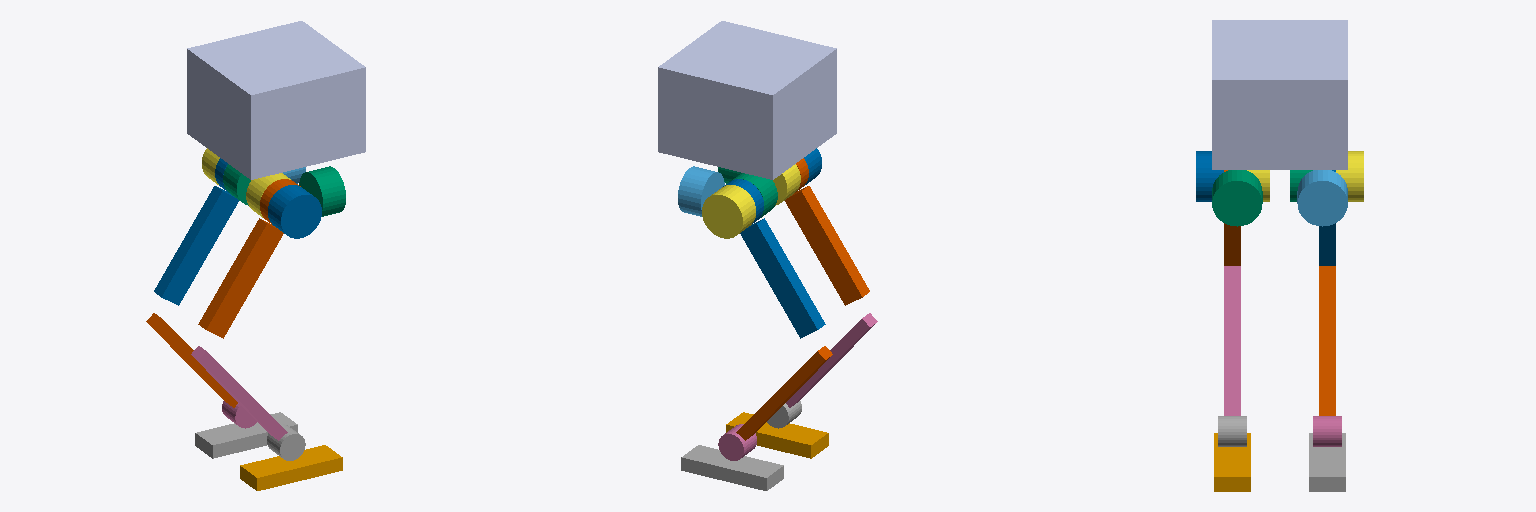
robot.urdf — SF_TRON1:
<?xml version="1.0" encoding="utf-8"?>
<robot name="SF_TRON1">

  <material name="black">
    <color rgba="0.0 0.0 0.0 1.0" />
  </material>
  <material name="blue">
    <color rgba="0.0 0.0 0.8 1.0" />
  </material>
  <material name="green">
    <color rgba="0.0 0.8 0.0 1.0" />
  </material>
  <material name="grey">
    <color rgba="0.2 0.2 0.2 1.0" />
  </material>
  <material name="silver">
    <color rgba="0.913725490196 0.913725490196 0.847058823529 1.0" />
  </material>
  <material name="orange">
    <color rgba="1.0 0.423529411765 0.0392156862745 1.0" />
  </material>
  <material name="brown">
    <color rgba="0.870588235294 0.811764705882 0.764705882353 1.0" />
  </material>
  <material name="red">
    <color rgba="0.8 0.0 0.0 1.0" />
  </material>
  <material name="white">
    <color rgba="1.0 1.0 1.0 1.0" />
  </material>

  <!-- ==================== BASE ==================== -->

  <link name="base_Link">
    <visual>
      <origin xyz="0 0 0" rpy="0 0 0" />
      <geometry>
        <box size="0.27 0.26 0.19" />
      </geometry>
      <material name="">
        <color rgba="0.79216 0.81961 0.93333 1" />
      </material>
    </visual>
    <collision>
      <origin xyz="0 0 0" rpy="0 0 0" />
      <geometry>
        <box size="0.27 0.26 0.19" />
      </geometry>
    </collision>
    <inertial>
      <origin rpy="0 0 0" xyz="0 0 0" />
      <mass value="5" />
      <inertia ixx="0.043208" ixy="0" ixz="0" iyy="0.045417" iyz="0" izz="0.058542" />
    </inertial>
  </link>

  <!-- ==================== IMU ==================== -->

  <joint name="limx_imu_joint" type="fixed">
    <origin rpy="0 0 0" xyz="0 0 0" />
    <parent link="base_Link" />
    <child link="limx_imu" />
  </joint>

  <link name="limx_imu">
    <inertial>
      <mass value="0.01" />
      <origin rpy="0 0 0" xyz="0 0 0" />
      <inertia ixx="0.000001" ixy="0" ixz="0" iyy="0.000001" iyz="0" izz="0.000001" />
    </inertial>
    <visual>
      <origin rpy="0 0 0" xyz="0 0 0" />
      <geometry>
        <box size="0.015 0.015 0.004" />
      </geometry>
      <material name="orange" />
    </visual>
  </link>

  <!-- ==================== RIGHT LEG ==================== -->

  <!--
    abad_R_fixed_joint origin is derived so the effective position of the
    revolute abad_R_Joint in base_Link frame matches the original Tron1 URDF:
      xyz = (0.05556, -0.105, -0.2602) = fixed_xyz + (-0.0545, 0, 0)
      => fixed_xyz = (0.11006, -0.10500, -0.26020)
  -->
  <joint name="abad_R_fixed_joint" type="fixed">
    <origin rpy="0 0 0" xyz="0.08865 -0.0817 -0.1875" />
    <parent link="base_Link" />
    <child link="abad_R_actuator_Link" />
  </joint>

  <link name="abad_R_actuator_Link">
    <visual>
      <origin rpy="0 1.57079632679 0" xyz="-0.02725 0 0" />
      <geometry>
        <cylinder length="0.0545" radius="0.0483" />
      </geometry>
    </visual>
    <collision>
      <origin rpy="0 1.57079632679 0" xyz="-0.02725 0 0" />
      <geometry>
        <cylinder length="0.0545" radius="0.0483" />
      </geometry>
    </collision>
    <inertial>
      <origin rpy="0 0 0" xyz="-0.02725 0 0" />
      <mass value="0.95" />
      <inertia ixx="0.001108" ixy="0" ixz="0" iyy="0.000789" iyz="0" izz="0.000789" />
    </inertial>
  </link>

  <!-- Revolute joint at (-0.0545,0,0) relative to actuator; effective position from base_Link = (0.05556,-0.105,-0.2602) -->
  <joint name="abad_R_Joint" type="revolute">
    <origin rpy="0 0 0" xyz="-0.0545 0 0" />
    <parent link="abad_R_actuator_Link" />
    <child link="abad_R_Link" />
    <axis xyz="-1 0 0" />
    <dynamics damping="0" friction="0" />
    <limit effort="80.0" lower="-0.38397" upper="1.39626" velocity="15.0" />
  </joint>

  <link name="abad_R_Link">
    <visual>
      <origin rpy="1.57079632679 0 0" xyz="-0.0683 0.035 0" />
      <geometry>
        <cylinder length="0.0545" radius="0.0483" />
      </geometry>
    </visual>
    <collision>
      <origin rpy="1.57079632679 0 0" xyz="-0.0683 0.035 0" />
      <geometry>
        <cylinder length="0.0545" radius="0.0483" />
      </geometry>
    </collision>
    <inertial>
      <!-- Solid cylinder, axis along Y (rpy="1.57 0 0"), r=0.0483, L=0.0545, m=1.469
           Iyy = m*r^2/2 = 1.469*0.0483^2/2 = 0.001713
           Ixx = Izz = m*(3r^2+L^2)/12 = 1.469*(3*0.002333+0.002970)/12 = 0.001220 -->
      <origin rpy="0 0 0" xyz="-0.0683 0.035 0" />
      <mass value="1.469" />
      <inertia ixx="0.001220" ixy="0" ixz="0"
               iyy="0.001713" iyz="0" izz="0.001220" />
    </inertial>
  </link>

  <joint name="hip_R_Joint" type="revolute">
    <origin rpy="0 0 0" xyz="-0.0683 0.03050 0" />
    <parent link="abad_R_Link" />
    <child link="hip_R_Link" />
    <axis xyz="0 -1 0" />
    <dynamics damping="0" friction="0" />
    <limit effort="80.0" lower="-1.396263" upper="1.012291" velocity="15.0" />
  </joint>

  <link name="hip_R_Link">
    <visual>
      <origin rpy="1.57079632679 0 0" xyz="0 -0.08275 0" />
      <geometry>
        <cylinder length="0.0545" radius="0.0483" />
      </geometry>
    </visual>
    <collision>
      <origin rpy="1.57079632679 0 0" xyz="0 -0.08275 0" />
      <geometry>
        <cylinder length="0.0545" radius="0.0483" />
      </geometry>
    </collision>
    <inertial>
      <origin rpy="0 0 0" xyz="0 -0.08275 0" />
      <mass value="0.95" />
      <inertia ixx="0.000789" ixy="0" ixz="0" iyy="0.001108" iyz="0" izz="0.000789" />
    </inertial>
  </link>

  <joint name="hip_R_fixed_joint" type="fixed">
    <origin rpy="0 0.610865 0" xyz="0 -0.08275 0" />
    <parent link="hip_R_Link" />
    <child link="hip_R_thigh_Link" />
  </joint>

  <link name="hip_R_thigh_Link">
    <visual>
      <origin rpy="1.57079632679 0 0" xyz="0 0.04325 0" />
      <geometry>
        <cylinder length="0.032" radius="0.0483" />
      </geometry>
    </visual>
    <visual>
      <origin rpy="0 0 0" xyz="0 0.04325 -0.175" />
      <geometry>
        <box size="0.05 0.032 0.25" />
      </geometry>
    </visual>
    <collision>
      <origin rpy="1.57079632679 0 0" xyz="0 0.04325 0" />
      <geometry>
        <cylinder length="0.032" radius="0.0483" />
      </geometry>
    </collision>
    <collision>
      <origin rpy="0 0 0" xyz="0 0.04325 -0.175" />
      <geometry>
        <box size="0.05 0.032 0.25" />
      </geometry>
    </collision>
    <inertial>
      <origin rpy="0 0 0" xyz="0 0.04325 -0.175" />
      <mass value="1.5" />
      <inertia ixx="0.011378" ixy="0" ixz="0" iyy="0.011562" iyz="0" izz="0.000441" />
    </inertial>
  </link>

  <!--
    knee_R_Joint origin relative to hip_R_thigh_Link is derived so the effective
    position from hip_R_Link matches the original Tron1 URDF xyz=(-0.1500,0.02050,-0.25981):
      hip_R_fixed_joint: (0,-0.08275,0) + knee_R_Joint: (-0.15000,0.10325,-0.25981) = (-0.15000,0.02050,-0.25981)
  -->
  <joint name="knee_R_Joint" type="revolute">
    <origin rpy="0 -1.3090 0" xyz="0 0.04325 -0.35" />
    <parent link="hip_R_thigh_Link" />
    <child link="knee_R_Link" />
    <axis xyz="0 -1 0" />
    <dynamics damping="0" friction="0" />
    <limit effort="80" lower="-1.21357" upper="1.172665" velocity="15" />
  </joint>

  <link name="knee_R_Link">
    <visual>
      <origin rpy="0 0 0" xyz="0 0 -0.15" />
      <geometry>
        <box size="0.025 0.032 0.3" />
      </geometry>
    </visual>
    <collision>
      <origin rpy="0 0 0" xyz="0 0 -0.15" />
      <geometry>
        <box size="0.025 0.032 0.3" />
      </geometry>
    </collision>
    <inertial>
      <!-- Box 0.025(x)*0.032(y)*0.3(z), m=1.22, CoM at box center
           Ixx = m*(b^2+c^2)/12 = 1.22*(0.001024+0.09)/12 = 0.009254
           Iyy = m*(a^2+c^2)/12 = 1.22*(0.000625+0.09)/12 = 0.009214
           Izz = m*(a^2+b^2)/12 = 1.22*(0.000625+0.001024)/12 = 0.000168 -->
      <origin rpy="0 0 0" xyz="0 0 -0.15" />
      <mass value="1.22" />
      <inertia ixx="0.009254" ixy="0" ixz="0"
               iyy="0.009214" iyz="0" izz="0.000168" />
    </inertial>
  </link>

  <joint name="ankle_R_actuator_Joint" type="fixed">
    <origin rpy="0 0.6982 0" xyz="0.018 0 -0.34" />
    <parent link="knee_R_Link" />
    <child link="ankle_R_actuator_Link" />
  </joint>

  <link name="ankle_R_actuator_Link">
    <visual>
      <origin rpy="1.57079632679 0 0" xyz="-0.02725 0 0" />
      <geometry>
        <cylinder length="0.0545" radius="0.03" />
      </geometry>
    </visual>
    <collision>
      <origin rpy="1.57079632679 0 0" xyz="-0.02725 0 0" />
      <geometry>
        <cylinder length="0.0545" radius="0.03" />
      </geometry>
    </collision>
    <inertial>
      <!-- Solid cylinder, axis along X (collision rpy="0 1.57 0"), r=0.03, L=0.0545, m=0.95
           Ixx = m*r^2/2 = 0.95*0.0009/2 = 0.000428
           Iyy = Izz = m*(3r^2+L^2)/12 = 0.95*(0.0027+0.002970)/12 = 0.000449 -->
      <origin rpy="0 0 0" xyz="-0.02725 0 0" />
      <mass value="0.95" />
      <inertia ixx="0.000428" ixy="0" ixz="0" iyy="0.000449" iyz="0" izz="0.000449" />
    </inertial>
  </link>

  <joint name="ankle_R_Joint" type="revolute">
    <origin rpy="0 0 0" xyz="-0.025 0 -0.025" />
    <parent link="ankle_R_actuator_Link" />
    <child link="ankle_R_Link" />
    <axis xyz="0 -1 0" />
    <dynamics damping="0" friction="0.01" />
    <limit effort="20" lower="-0.79191730631626" upper="1.30899" velocity="15" />
  </joint>

  <link name="ankle_R_Link">
    <visual>
      <origin xyz="0.01 0 -0.035" rpy="0 0 0" />
      <geometry>
        <box size="0.2 0.07 0.03" />
      </geometry>
    </visual>
    <collision>
      <origin xyz="0.01 0 -0.035" rpy="0 0 0" />
      <geometry>
        <box size="0.2 0.07 0.03" />
      </geometry>
    </collision>
    <inertial>
      <!-- Box 0.2(x)*0.07(y)*0.03(z), m=0.62, CoM at box center
           Ixx = m*(b^2+c^2)/12 = 0.62*(0.0049+0.0009)/12 = 0.000300
           Iyy = m*(a^2+c^2)/12 = 0.62*(0.04+0.0009)/12 = 0.002113
           Izz = m*(a^2+b^2)/12 = 0.62*(0.04+0.0049)/12 = 0.002320 -->
      <origin rpy="0 0 0" xyz="0.01 0 -0.035" />
      <mass value="0.62" />
      <inertia ixx="0.000300" ixy="0" ixz="0"
               iyy="0.002113" iyz="0" izz="0.002320" />
    </inertial>
  </link>

  <!-- ==================== LEFT LEG ==================== -->

  <!--
    abad_L_fixed_joint origin is derived so the effective position of the
    revolute abad_L_Joint in base_Link frame matches the original Tron1 URDF:
      xyz = (0.05556, 0.105, -0.2602) = fixed_xyz + (-0.0545, 0, 0)
      => fixed_xyz = (0.11006, 0.10500, -0.26020)
  -->
  <joint name="abad_L_fixed_joint" type="fixed">
    <origin rpy="0 0 0" xyz="0.08865 0.0817 -0.1875" />
    <parent link="base_Link" />
    <child link="abad_L_actuator_Link" />
  </joint>

  <link name="abad_L_actuator_Link">
    <visual>
      <origin rpy="0 1.57079632679 0" xyz="-0.02725 0 0" />
      <geometry>
        <cylinder length="0.0545" radius="0.0483" />
      </geometry>
    </visual>
    <collision>
      <origin rpy="0 1.57079632679 0" xyz="-0.02725 0 0" />
      <geometry>
        <cylinder length="0.0545" radius="0.0483" />
      </geometry>
    </collision>
    <inertial>
      <origin rpy="0 0 0" xyz="-0.02725 0 0" />
      <mass value="0.95" />
      <inertia ixx="0.001108" ixy="0" ixz="0" iyy="0.000789" iyz="0" izz="0.000789" />
    </inertial>
  </link>

  <!-- Revolute joint at (-0.0545,0,0) relative to actuator; effective position from base_Link = (0.05556,0.105,-0.2602) -->
  <joint name="abad_L_Joint" type="revolute">
    <origin rpy="0 0 0" xyz="-0.0545 0 0" />
    <parent link="abad_L_actuator_Link" />
    <child link="abad_L_Link" />
    <axis xyz="1 0 0" />
    <dynamics damping="0" friction="0" />
    <limit effort="80.0" lower="-0.38397" upper="1.39626" velocity="15.0" />
  </joint>

  <link name="abad_L_Link">
    <visual>
      <origin rpy="1.57079632679 0 0" xyz="-0.0683 -0.035 0" />
      <geometry>
        <cylinder length="0.0545" radius="0.0483" />
      </geometry>
    </visual>
    <collision>
      <origin rpy="1.57079632679 0 0" xyz="-0.0683 -0.035 0" />
      <geometry>
        <cylinder length="0.0545" radius="0.0483" />
      </geometry>
    </collision>
    <inertial>
      <!-- Solid cylinder, axis along Y (rpy="1.57 0 0"), r=0.0483, L=0.0545, m=1.469
           Iyy = m*r^2/2 = 1.469*0.0483^2/2 = 0.001713
           Ixx = Izz = m*(3r^2+L^2)/12 = 1.469*(3*0.002333+0.002970)/12 = 0.001220 -->
      <origin rpy="0 0 0" xyz="-0.0683 -0.035 0" />
      <mass value="1.469" />
      <inertia ixx="0.001220" ixy="0" ixz="0"
               iyy="0.001713" iyz="0" izz="0.001220" />
    </inertial>
  </link>

  <joint name="hip_L_Joint" type="revolute">
    <origin rpy="0 0 0" xyz="-0.0683 -0.03050 0" />
    <parent link="abad_L_Link" />
    <child link="hip_L_Link" />
    <axis xyz="0 1 0" />
    <dynamics damping="0" friction="0" />
    <limit effort="80.0" lower="-1.012291" upper="1.396263" velocity="15.0" />
  </joint>

  <link name="hip_L_Link">
    <visual>
      <origin rpy="1.57079632679 0 0" xyz="0 0.08275 0" />
      <geometry>
        <cylinder length="0.0545" radius="0.0483" />
      </geometry>
    </visual>
    <collision>
      <origin rpy="1.57079632679 0 0" xyz="0 0.08275 0" />
      <geometry>
        <cylinder length="0.0545" radius="0.0483" />
      </geometry>
    </collision>
    <inertial>
      <origin rpy="0 0 0" xyz="0 0.08275 0" />
      <mass value="0.95" />
      <inertia ixx="0.000789" ixy="0" ixz="0" iyy="0.001108" iyz="0" izz="0.000789" />
    </inertial>
  </link>

  <joint name="hip_L_fixed_joint" type="fixed">
    <origin rpy="0 0.610865 0" xyz="0 0.08275 0" />
    <parent link="hip_L_Link" />
    <child link="hip_L_thigh_Link" />
  </joint>

  <link name="hip_L_thigh_Link">
    <visual>
      <origin rpy="1.57079632679 0 0" xyz="0 -0.04325 0" />
      <geometry>
        <cylinder length="0.032" radius="0.0483" />
      </geometry>
    </visual>
    <visual>
      <origin rpy="0 0 0" xyz="0 -0.04325 -0.175" />
      <geometry>
        <box size="0.05 0.032 0.25" />
      </geometry>
    </visual>
    <collision>
      <origin rpy="1.57079632679 0 0" xyz="0 -0.04325 0" />
      <geometry>
        <cylinder length="0.032" radius="0.0483" />
      </geometry>
    </collision>
    <collision>
      <origin rpy="0 0 0" xyz="0 -0.04325 -0.175" />
      <geometry>
        <box size="0.05 0.032 0.25" />
      </geometry>
    </collision>
    <inertial>
      <origin rpy="0 0 0" xyz="0 -0.04325 -0.175" />
      <mass value="1.5" />
      <inertia ixx="0.011378" ixy="0" ixz="0" iyy="0.011562" iyz="0" izz="0.000441" />
    </inertial>
  </link>

  <!--
    knee_L_Joint origin relative to hip_L_thigh_Link is derived so the effective
    position from hip_L_Link matches the original Tron1 URDF xyz=(-0.1500,-0.02050,-0.25981):
      hip_L_fixed_joint: (0,0.08275,0) + knee_L_Joint: (-0.15000,-0.10325,-0.25981) = (-0.15000,-0.02050,-0.25981)
  -->
  <joint name="knee_L_Joint" type="revolute">
    <origin rpy="0 -1.3090 0" xyz="0 -0.04325 -0.35" />
    <parent link="hip_L_thigh_Link" />
    <child link="knee_L_Link" />
    <axis xyz="0 -1 0" />
    <dynamics damping="0" friction="0" />
    <limit effort="80" lower="-0.872665" upper="1.361357" velocity="15" />
  </joint>

  <link name="knee_L_Link">
    <visual>
      <origin rpy="0 0 0" xyz="0 0 -0.15" />
      <geometry>
        <box size="0.025 0.032 0.3" />
      </geometry>
    </visual>
    <collision>
      <origin rpy="0 0 0" xyz="0 0 -0.15" />
      <geometry>
        <box size="0.025 0.032 0.3" />
      </geometry>
    </collision>
    <inertial>
      <!-- Box 0.025(x)*0.032(y)*0.3(z), m=1.22, CoM at box center
           Ixx = m*(b^2+c^2)/12 = 1.22*(0.001024+0.09)/12 = 0.009254
           Iyy = m*(a^2+c^2)/12 = 1.22*(0.000625+0.09)/12 = 0.009214
           Izz = m*(a^2+b^2)/12 = 1.22*(0.000625+0.001024)/12 = 0.000168 -->
      <origin rpy="0 0 0" xyz="0 0 -0.15" />
      <mass value="1.22" />
      <inertia ixx="0.009254" ixy="0" ixz="0"
               iyy="0.009214" iyz="0" izz="0.000168" />
    </inertial>
  </link>
  
  <joint name="ankle_L_actuator_Joint" type="fixed">
    <origin rpy="0 0.6982 0" xyz="0.018 0 -0.34" />
    <parent link="knee_L_Link" />
    <child link="ankle_L_actuator_Link" />
  </joint>

  
  <link name="ankle_L_actuator_Link">
    <visual>
      <origin rpy="1.57079632679 0 0" xyz="-0.02725 0 0" />
      <geometry>
        <cylinder length="0.0545" radius="0.03" />
      </geometry>
    </visual>
    <collision>
      <origin rpy="0 1.57079632679 0" xyz="-0.02725 0 0" />
      <geometry>
        <cylinder length="0.0545" radius="0.03" />
      </geometry>
    </collision>
    <inertial>
      <!-- Solid cylinder, axis along X (collision rpy="0 1.57 0"), r=0.03, L=0.0545, m=0.95
           Ixx = m*r^2/2 = 0.95*0.0009/2 = 0.000428
           Iyy = Izz = m*(3r^2+L^2)/12 = 0.95*(0.0027+0.002970)/12 = 0.000449 -->
      <origin rpy="0 0 0" xyz="-0.02725 0 0" />
      <mass value="0.95" />
      <inertia ixx="0.000428" ixy="0" ixz="0" iyy="0.000449" iyz="0" izz="0.000449" />
    </inertial>
  </link>
  
  <joint name="ankle_L_Joint" type="revolute">
    <origin rpy="0 0 0" xyz="-0.025 0 -0.025" />
    <parent link="ankle_L_actuator_Link" />
    <child link="ankle_L_Link" />
    <axis xyz="0 -1 0" />
    <dynamics damping="0" friction="0.01" />
    <limit effort="20" lower="-0.79191730631626" upper="1.30899" velocity="15" />
  </joint>

  <link name="ankle_L_Link">
    <visual>
      <origin xyz="0.01 0 -0.035" rpy="0 0 0" />
      <geometry>
        <box size="0.2 0.07 0.03" />
      </geometry>
    </visual>
    <collision>
      <origin xyz="0.01 0 -0.035" rpy="0 0 0" />
      <geometry>
        <box size="0.2 0.07 0.03" />
      </geometry>
    </collision>
    <inertial>
      <!-- Box 0.2(x)*0.07(y)*0.03(z), m=0.62, CoM at box center
           Ixx = m*(b^2+c^2)/12 = 0.62*(0.0049+0.0009)/12 = 0.000300
           Iyy = m*(a^2+c^2)/12 = 0.62*(0.04+0.0009)/12 = 0.002113
           Izz = m*(a^2+b^2)/12 = 0.62*(0.04+0.0049)/12 = 0.002320 -->
      <origin rpy="0 0 0" xyz="0.01 0 -0.035" />
      <mass value="0.62" />
      <inertia ixx="0.000300" ixy="0" ixz="0"
               iyy="0.002113" iyz="0" izz="0.002320" />
    </inertial>
  </link>

</robot>

--- Render facts (derived) ---
3 views of the same robot in one strip: view 1: azimuth 30°, elevation 25°; view 2: azimuth 150°, elevation 25°; view 3: azimuth 270°, elevation 25° (orthographic).
Model SF_TRON1 with 16 links and 15 joints (8 revolute, 7 fixed), rooted at base_Link, posed every joint at zero.
Links seen in each view (by area): view 1: base_Link, hip_R_thigh_Link, hip_L_thigh_Link, ankle_R_Link, hip_R_Link, ankle_L_Link, knee_R_Link, abad_R_actuator_Link, knee_L_Link, ankle_R_actuator_Link, abad_R_Link, abad_L_Link; view 2: base_Link, hip_L_thigh_Link, hip_R_thigh_Link, ankle_L_Link, hip_L_Link, ankle_R_Link, knee_L_Link, abad_L_actuator_Link, knee_R_Link, ankle_L_actuator_Link, abad_L_Link, abad_R_Link; view 3: base_Link, knee_R_Link, knee_L_Link, abad_R_actuator_Link, abad_L_actuator_Link, ankle_R_Link, ankle_L_Link, hip_R_Link, hip_L_Link, ankle_R_actuator_Link, ankle_L_actuator_Link, hip_R_thigh_Link (+1 smaller).
Boxes of the visible links, <box> form: base_Link: <box>187,21,365,179</box>; hip_R_thigh_Link: <box>198,179,300,338</box>; hip_L_thigh_Link: <box>154,158,238,305</box>; ankle_R_Link: <box>240,445,342,490</box>; hip_R_Link: <box>268,185,321,238</box>; ankle_L_Link: <box>195,412,297,458</box>; knee_R_Link: <box>191,346,287,440</box>; abad_R_actuator_Link: <box>299,166,345,216</box>; knee_L_Link: <box>146,313,237,407</box>; ankle_R_actuator_Link: <box>267,424,305,460</box>; abad_R_Link: <box>246,173,290,217</box>; abad_L_Link: <box>223,164,250,205</box>; base_Link: <box>658,21,836,179</box>; hip_L_thigh_Link: <box>723,179,825,338</box>; hip_R_thigh_Link: <box>785,158,869,305</box>; ankle_L_Link: <box>681,445,783,490</box>; hip_L_Link: <box>702,185,755,238</box>; ankle_R_Link: <box>726,412,828,458</box>; knee_L_Link: <box>736,346,832,440</box>; abad_L_actuator_Link: <box>678,166,724,216</box>; knee_R_Link: <box>786,313,877,407</box>; ankle_L_actuator_Link: <box>718,424,756,460</box>; abad_L_Link: <box>733,173,777,217</box>; abad_R_Link: <box>773,164,800,205</box>; base_Link: <box>1212,20,1347,169</box>; knee_R_Link: <box>1224,266,1240,415</box>; knee_L_Link: <box>1319,266,1335,415</box>; abad_R_actuator_Link: <box>1212,170,1262,226</box>; abad_L_actuator_Link: <box>1297,170,1347,226</box>; ankle_R_Link: <box>1214,433,1250,491</box>; ankle_L_Link: <box>1309,433,1345,491</box>; hip_R_Link: <box>1196,151,1223,201</box>; hip_L_Link: <box>1336,151,1363,201</box>; ankle_R_actuator_Link: <box>1218,416,1246,446</box>; ankle_L_actuator_Link: <box>1313,416,1341,446</box>; hip_R_thigh_Link: <box>1224,170,1240,265</box>.
Size in the robot's own frame: 0.3795 by 0.3224 by 0.8931 metres.
Geometry: primitives only (box / cylinder / sphere), no mesh files.
